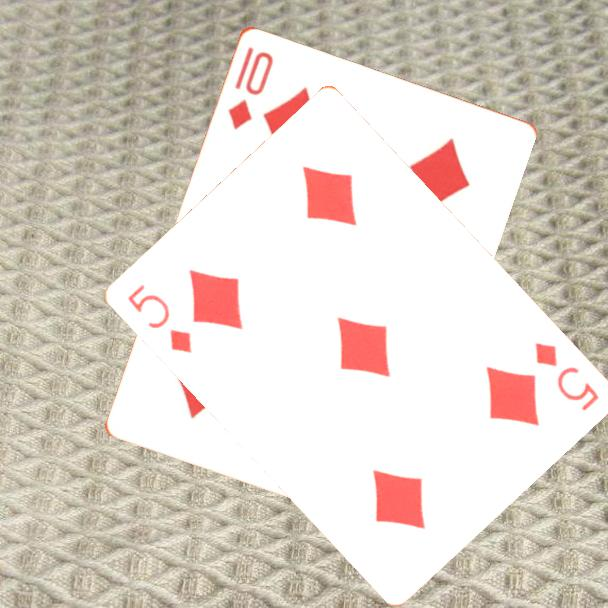d05: (124, 280, 196, 357), (531, 338, 603, 414)
d10: (223, 42, 276, 132)
